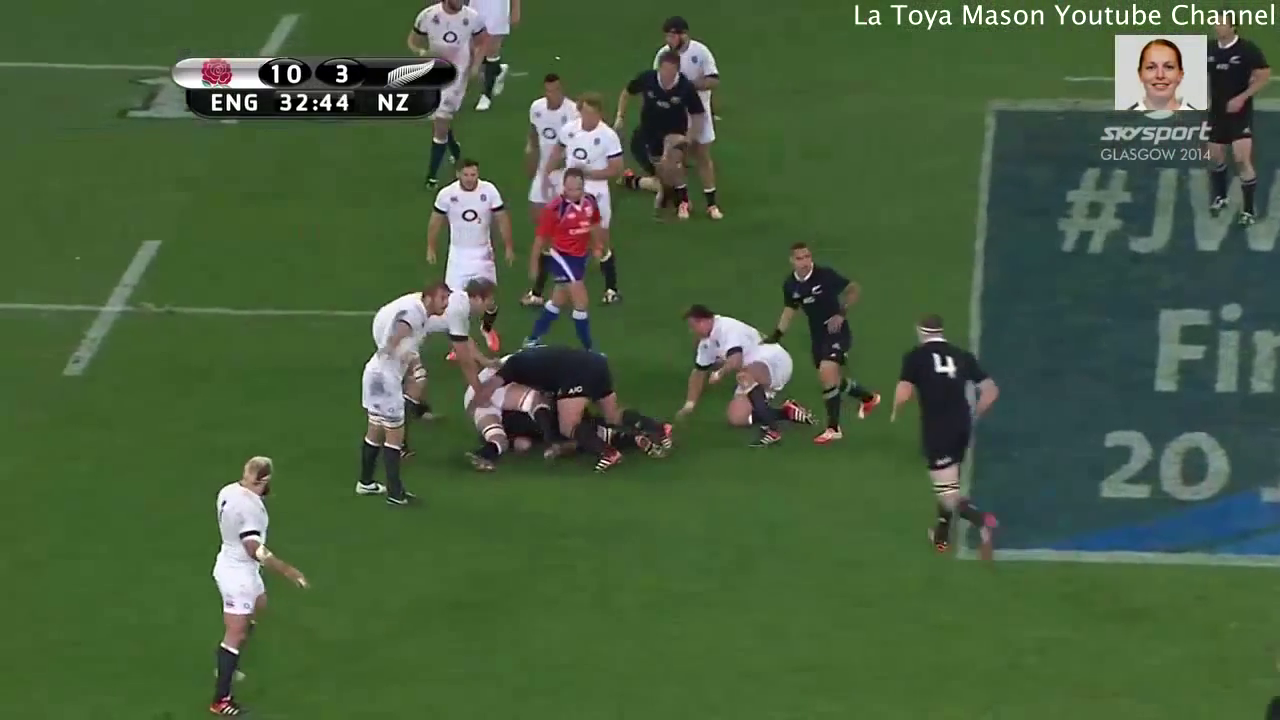10_metre: (1, 238, 382, 388), (1, 10, 377, 127)
player: (880, 312, 1011, 583), (187, 450, 310, 720), (766, 244, 881, 450), (354, 283, 453, 508), (677, 300, 815, 444), (513, 168, 611, 354), (400, 1, 491, 188), (650, 14, 731, 224), (505, 345, 630, 471), (607, 54, 704, 212), (1205, 1, 1265, 227), (541, 89, 630, 207), (419, 162, 504, 283), (452, 369, 543, 476), (437, 280, 504, 397), (527, 71, 582, 156)
ruck: (453, 332, 674, 476)
